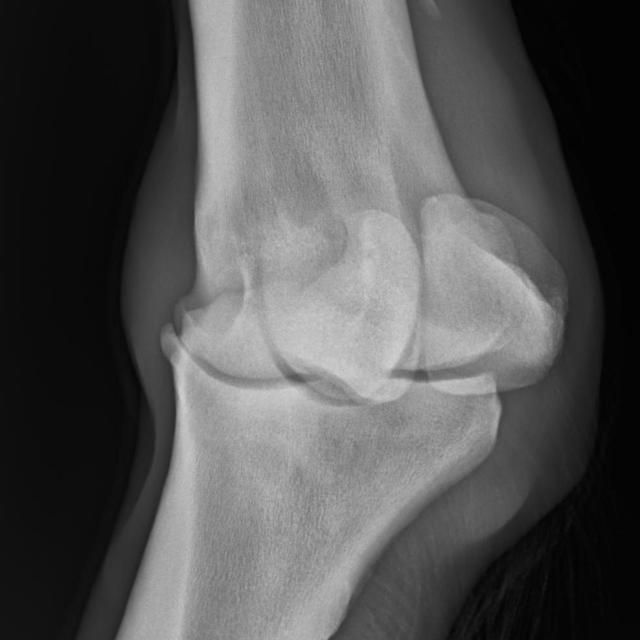bone remodeling: (144, 306, 191, 376)
